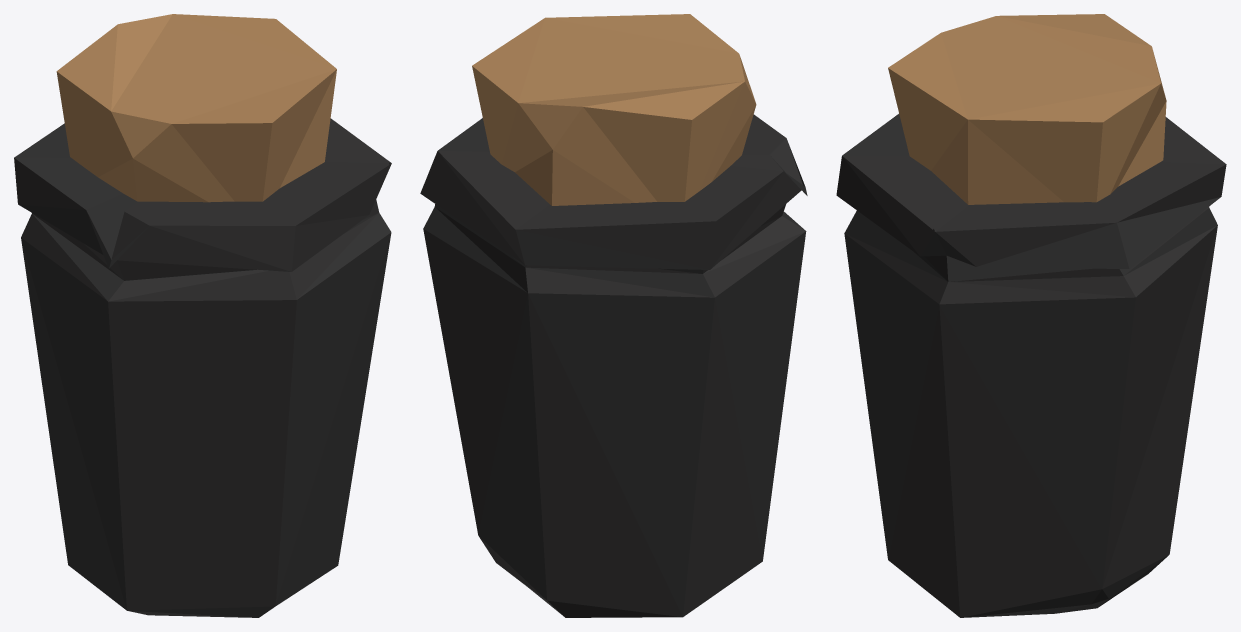
File: AWS_Potion_Black_010.fbx
The picture shows the model from 3 angles, left to right: view 1: azimuth 30°, elevation 25°; view 2: azimuth 150°, elevation 25°; view 3: azimuth 270°, elevation 25°; orthographic projection.
Parts seen in each view (by area): view 1: AWS_Potion_Black_010; view 2: AWS_Potion_Black_010; view 3: AWS_Potion_Black_010.
Boxes of the visible parts, x1,y1,x2,y2 form: AWS_Potion_Black_010: (14,14,391,617); AWS_Potion_Black_010: (420,14,807,617); AWS_Potion_Black_010: (836,14,1226,617).
Size of the model in its own units: 5.03 by 8.57 by 5.79.
